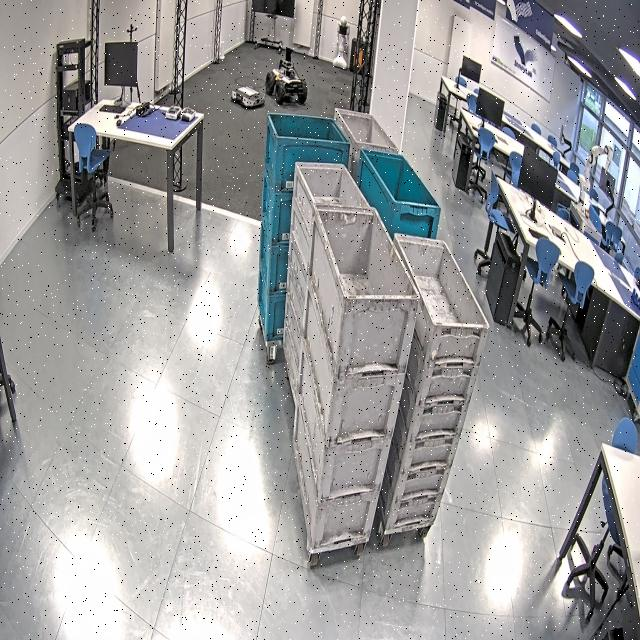Box3G: (393, 232, 489, 372), (290, 150, 374, 250), (402, 333, 480, 409), (391, 401, 461, 469), (385, 432, 451, 498), (398, 374, 466, 436), (379, 462, 442, 528)
Box4G: (314, 206, 418, 380), (306, 284, 402, 450), (293, 343, 395, 498), (292, 392, 379, 550), (335, 102, 399, 178)
BoxB4: (352, 150, 438, 244), (267, 109, 357, 197), (260, 184, 292, 247), (258, 244, 291, 300), (258, 294, 292, 342)
